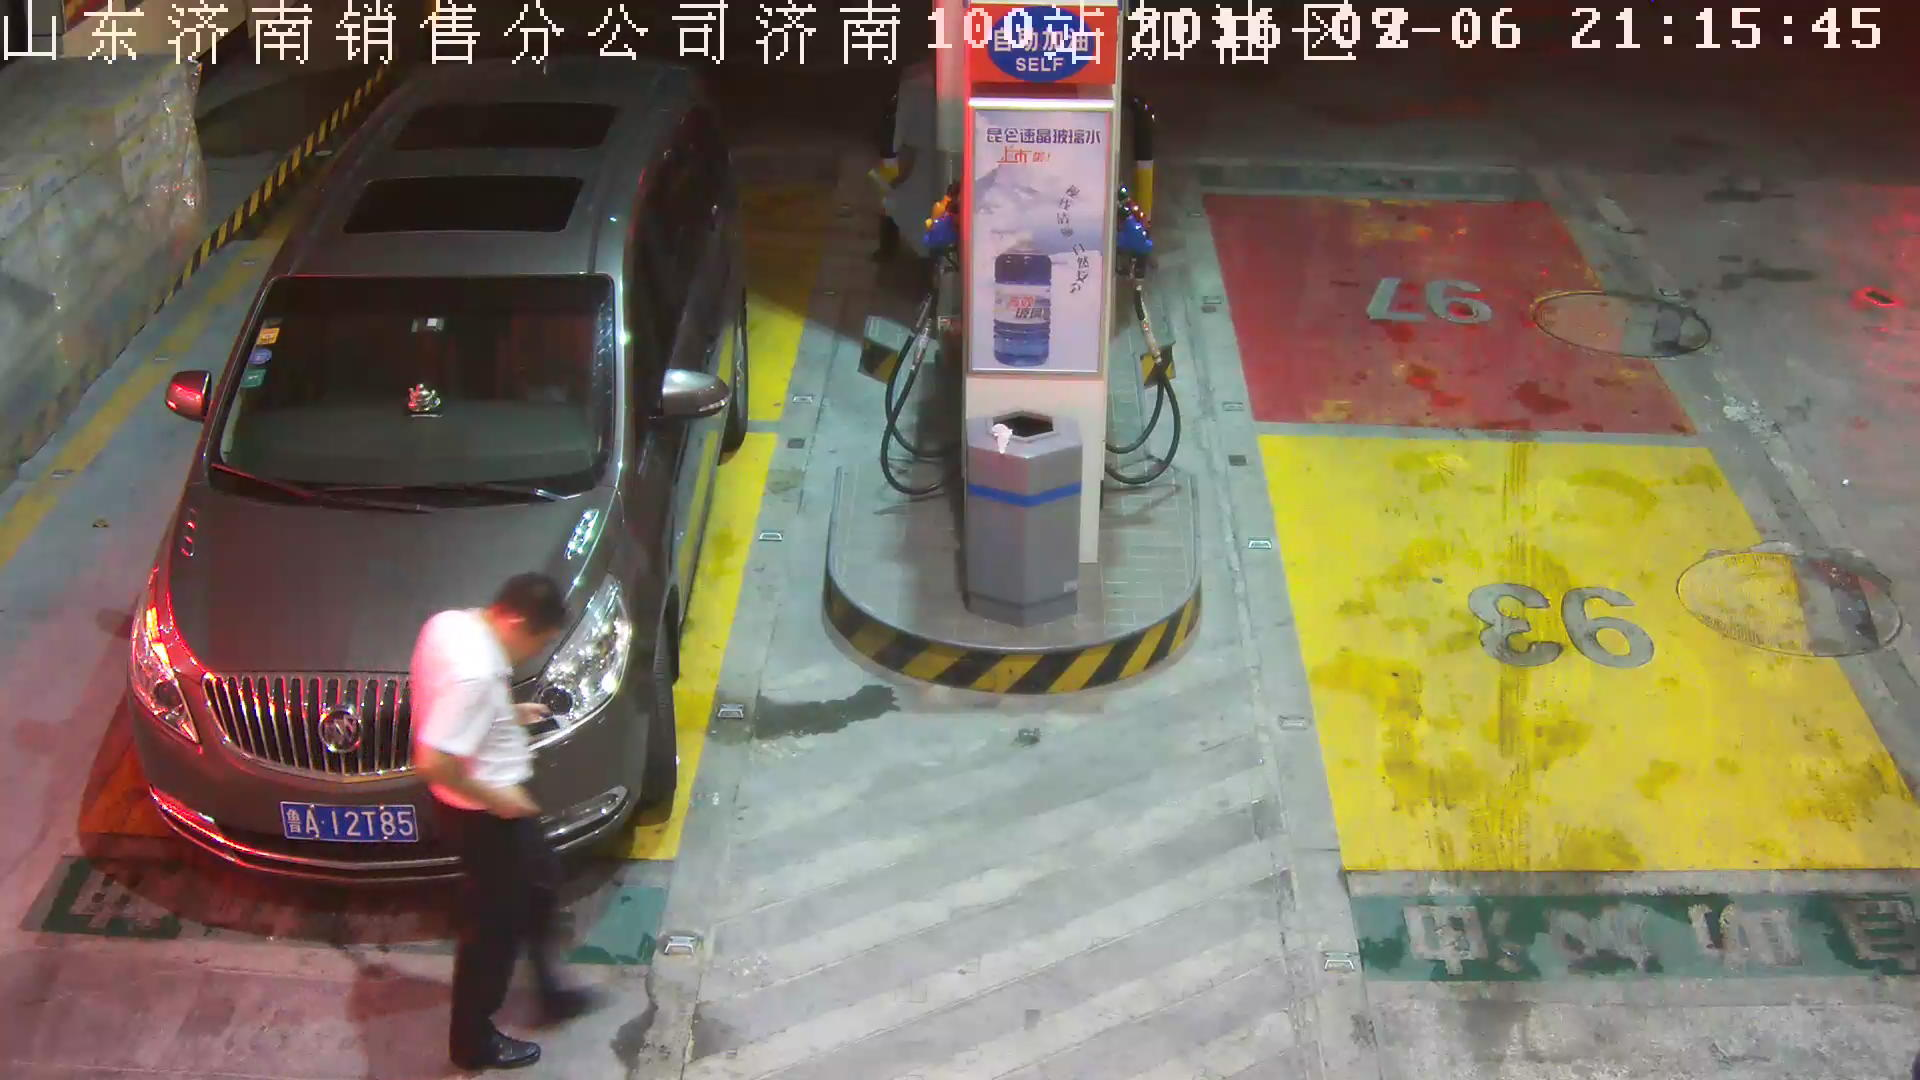blue: (281, 802, 421, 847)
